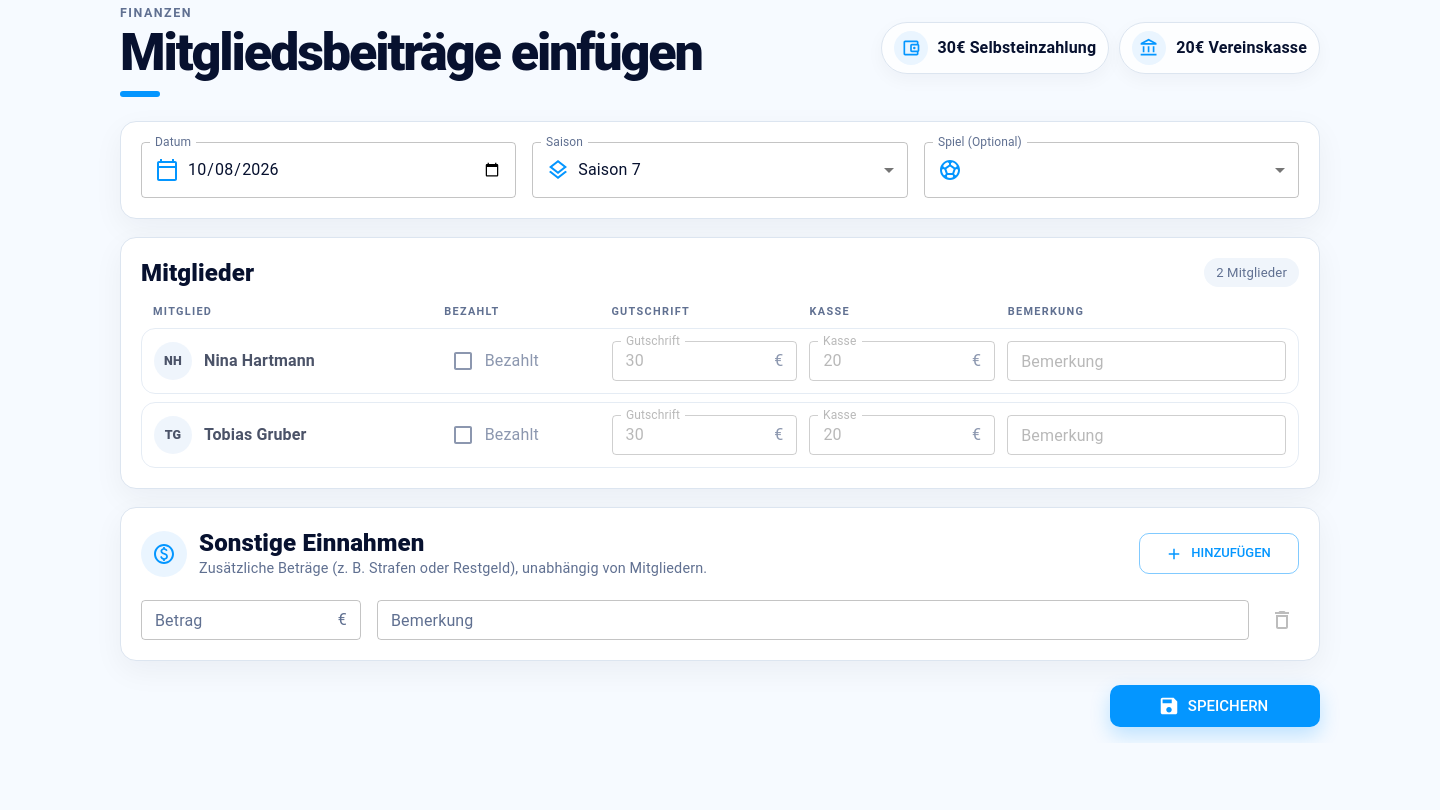
Test: BulkDepositPage edit mode › shows every member with initials and enables only selected member fields
expect the heading "Mitgliedsbeiträge einfügen" is shown: met, box x1=120 y1=26 x2=702 y2=81
expect the text "2 Mitglieder" is shown: met, box x1=1204 y1=258 x2=1299 y2=287
Click the checkbox labelled "Bezahlt" next to "Nina Hartmann": (492, 361) x1=445 y1=343 x2=539 y2=379
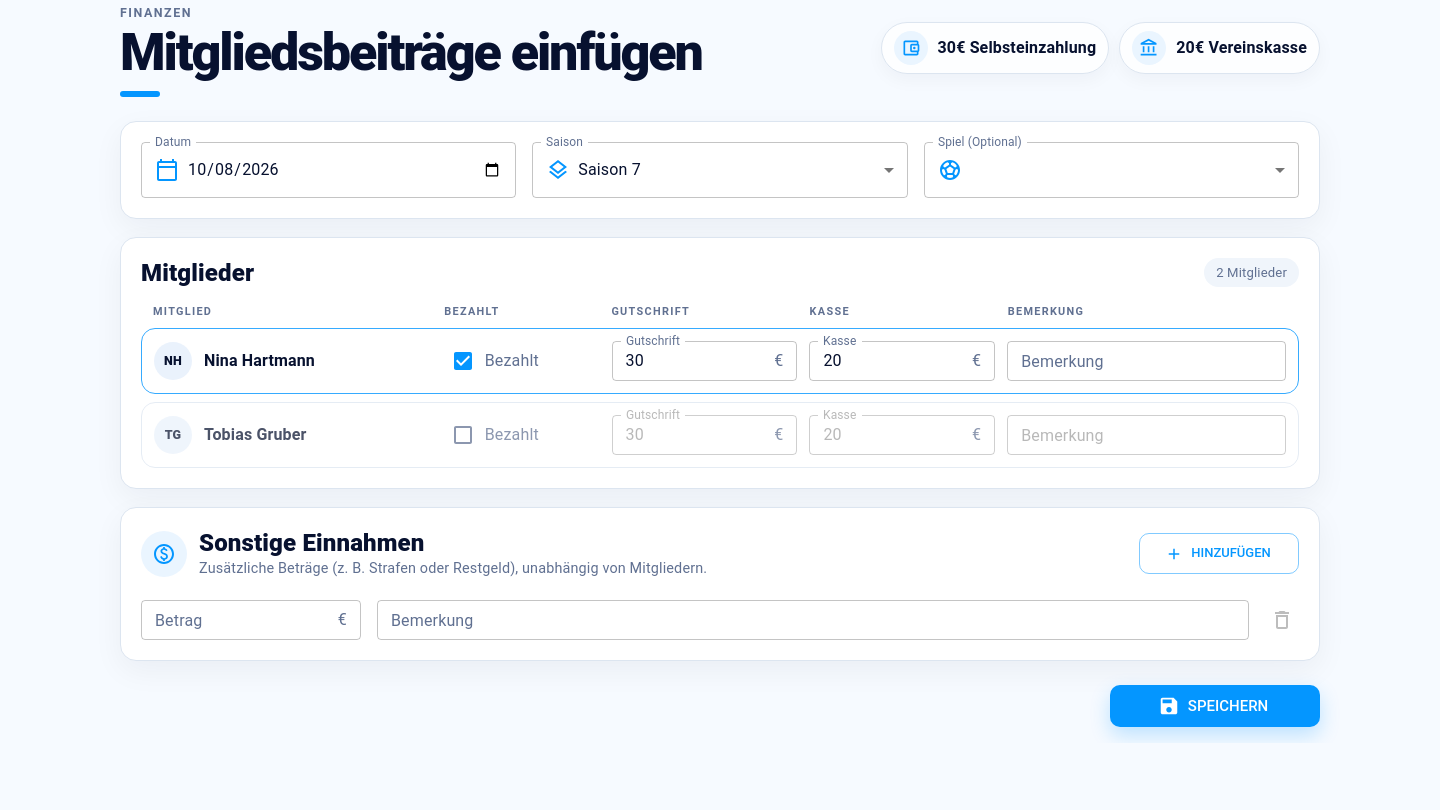
expect the number field labelled "Gutschrift" in the row of "Tobias Gruber" is disabled: met, box x1=612 y1=415 x2=766 y2=455
expect the number field labelled "Gutschrift" in the row of "Nina Hartmann" is enabled: met, box x1=612 y1=341 x2=766 y2=381
